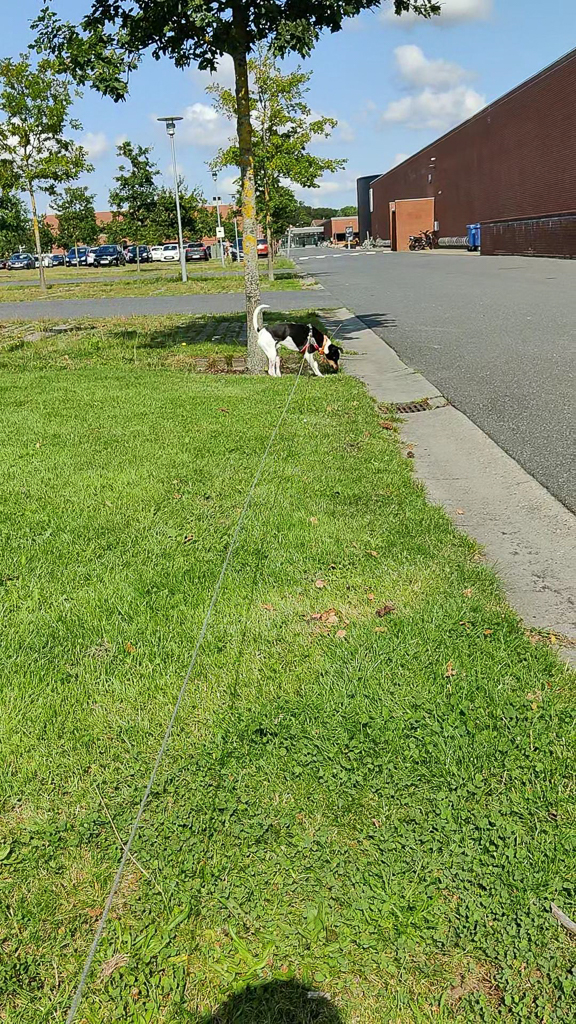Dog: (251, 301, 347, 382)
